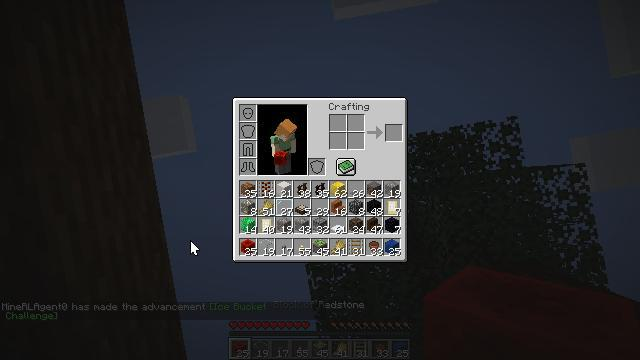cursor: (190, 240, 200, 256)
